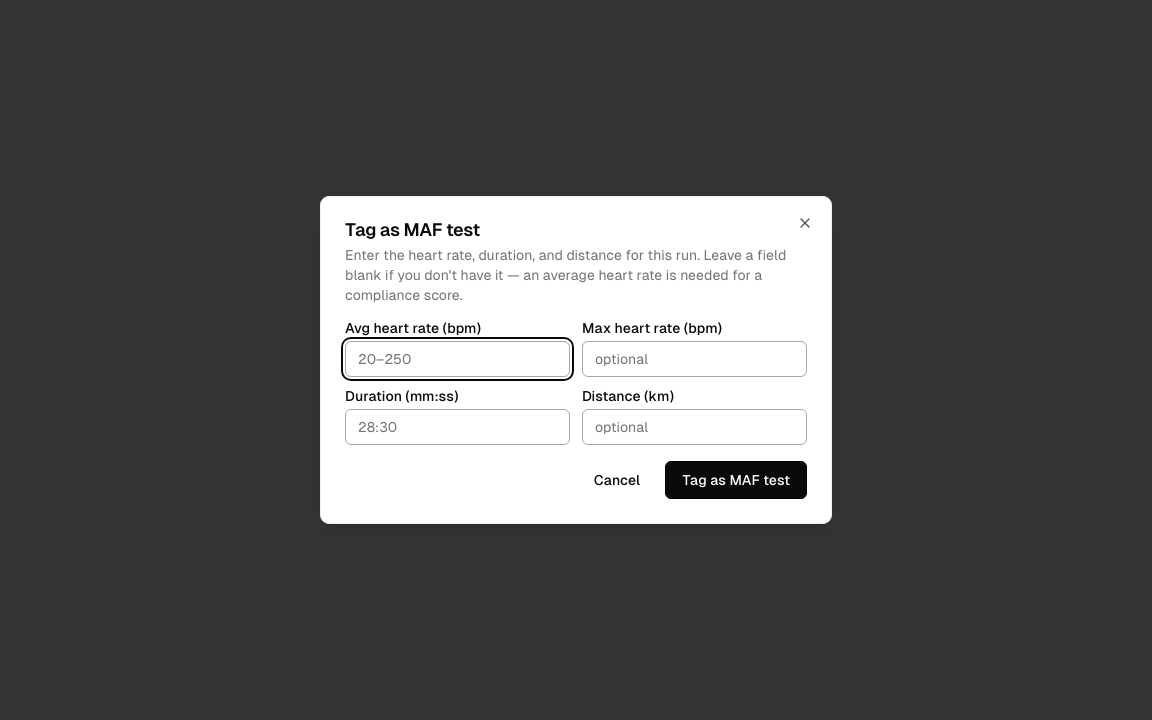
Test: MafTestForm › rejects a malformed duration
The width and height of the screenshot is (1152, 720).
Type "28:75" into the field with test id "maf-test-form-duration" at [458, 427], box [345,409,570,445]
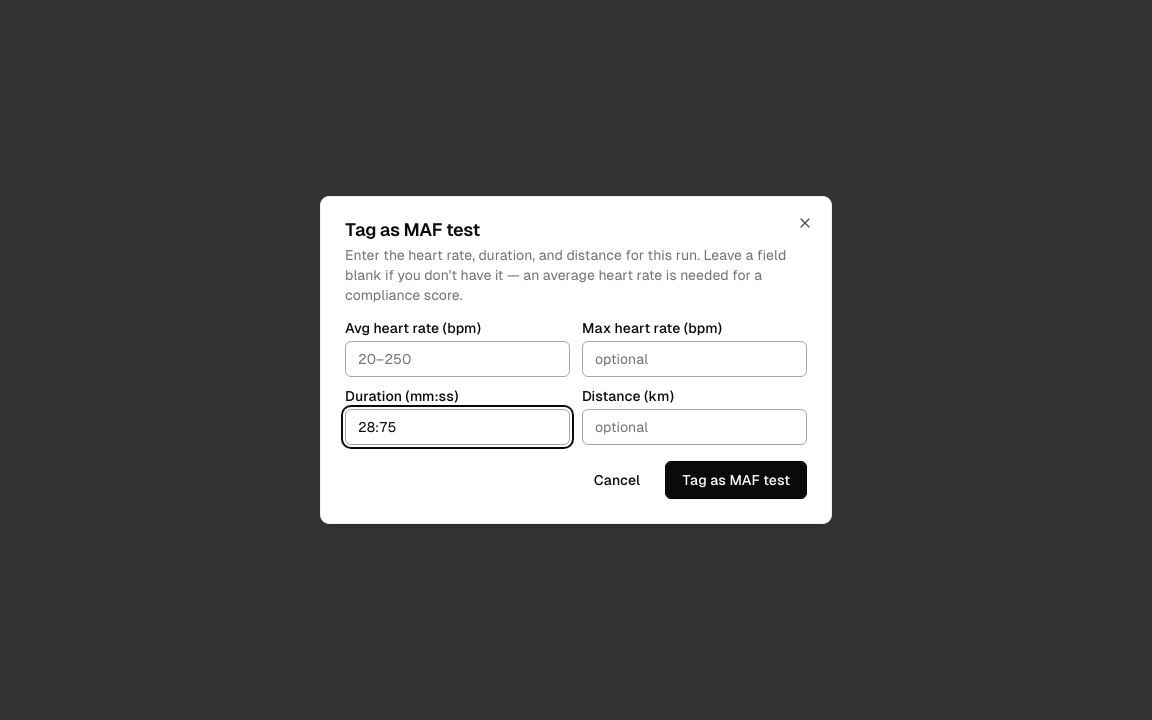
Click the button with test id "maf-test-form-submit" at [736, 480], box [665,461,807,499]
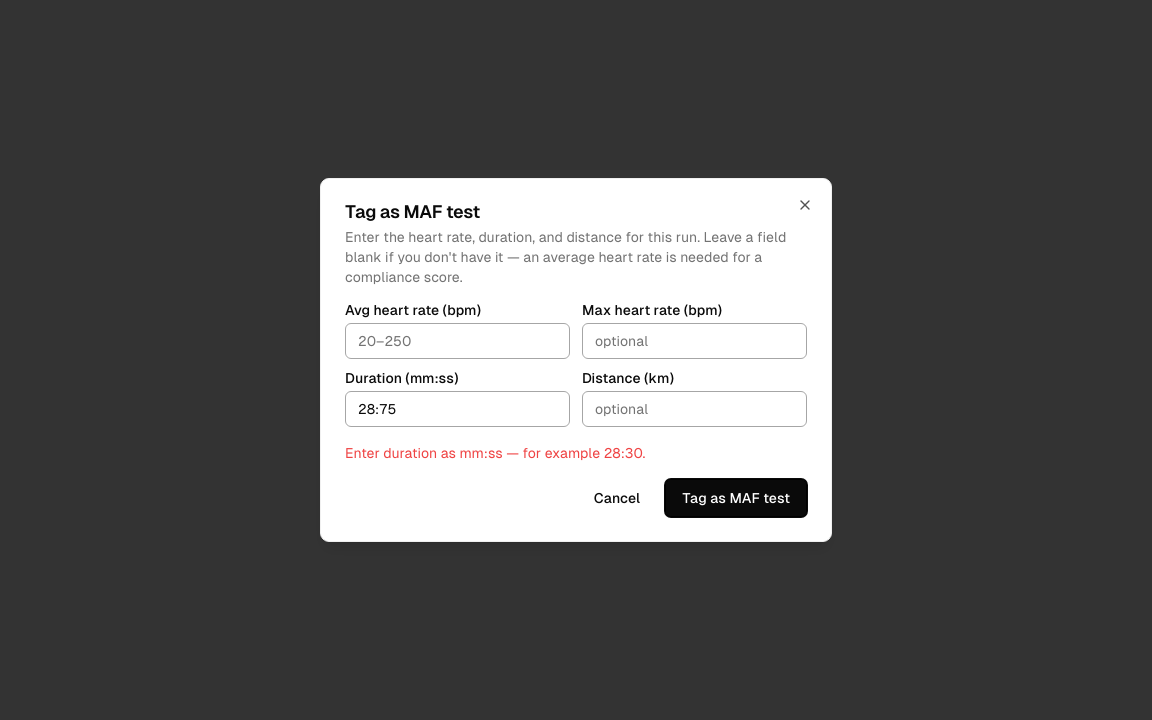
Expected: the message "Enter duration as mm:ss — for example 28:30." is shown, [345,445,645,461]
